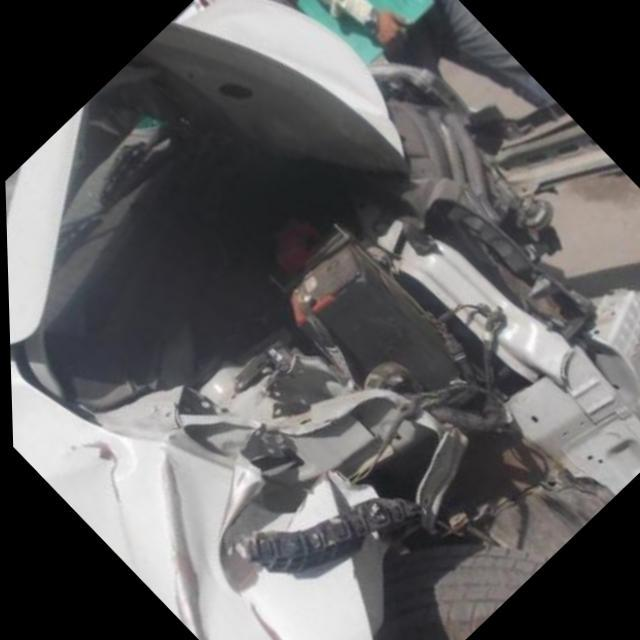crash: (69, 24, 640, 640)
glass shatter: (4, 165, 28, 221)
